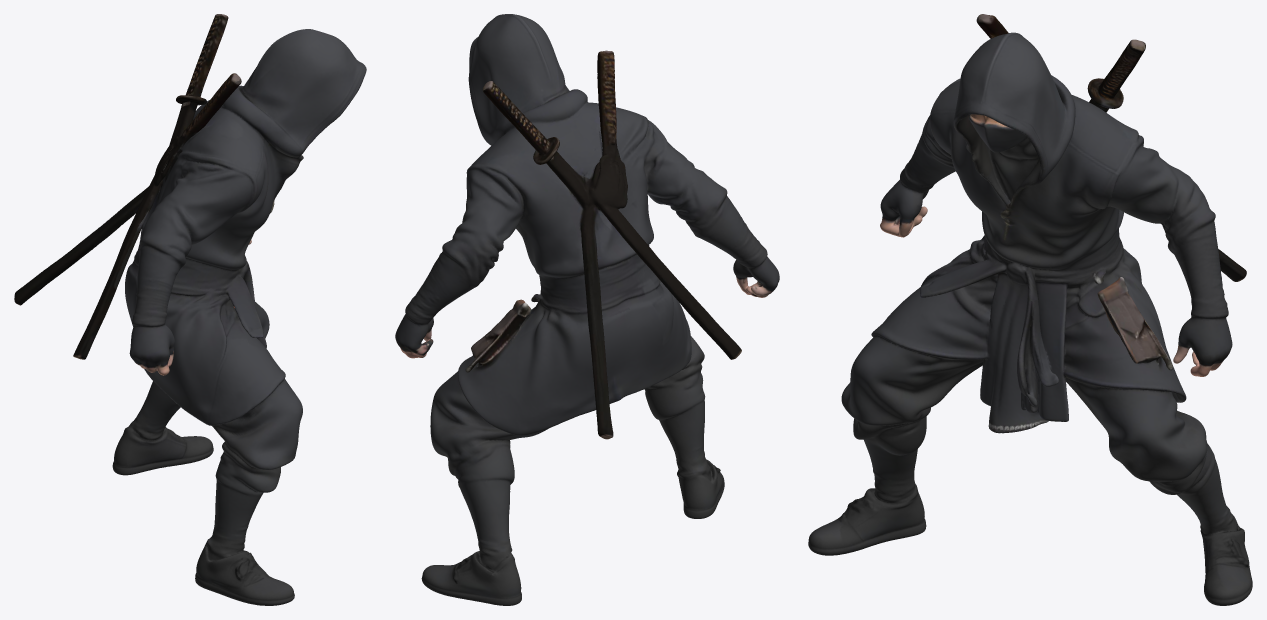
File: fighter_ninja.glb
The picture shows the model from 3 angles, left to right: view 1: azimuth 30°, elevation 25°; view 2: azimuth 150°, elevation 25°; view 3: azimuth 270°, elevation 25°; orthographic projection. The views are drawn at different scales.
Parts seen in each view (by area): view 1: tripo_node_2b7f92aa-5f1d-413b-9f92-b74b247b06ca; view 2: tripo_node_2b7f92aa-5f1d-413b-9f92-b74b247b06ca; view 3: tripo_node_2b7f92aa-5f1d-413b-9f92-b74b247b06ca.
Boxes of the visible parts, x1=… form: tripo_node_2b7f92aa-5f1d-413b-9f92-b74b247b06ca: x1=14, y1=14, x2=366, y2=605; tripo_node_2b7f92aa-5f1d-413b-9f92-b74b247b06ca: x1=395, y1=14, x2=779, y2=605; tripo_node_2b7f92aa-5f1d-413b-9f92-b74b247b06ca: x1=808, y1=14, x2=1252, y2=605.
Size of the model in its own units: 0.5908 by 1 by 0.7026.
Materials: 1 (1 with a texture image).
